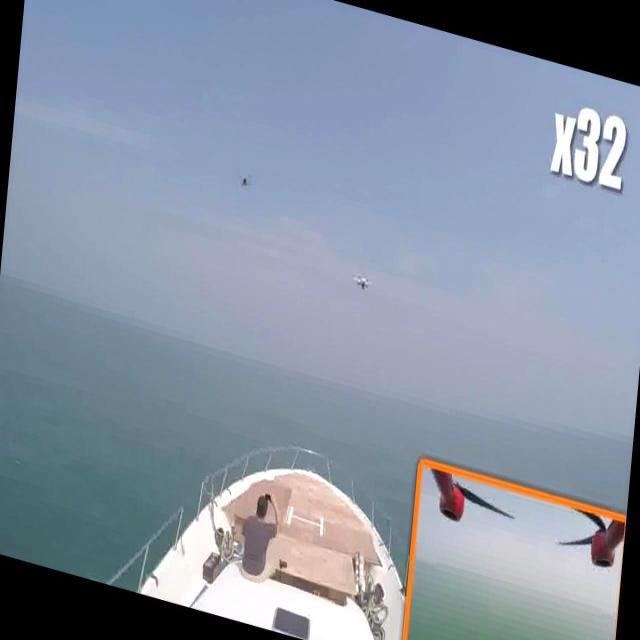drone: (346, 264, 378, 300), (232, 166, 257, 196)
